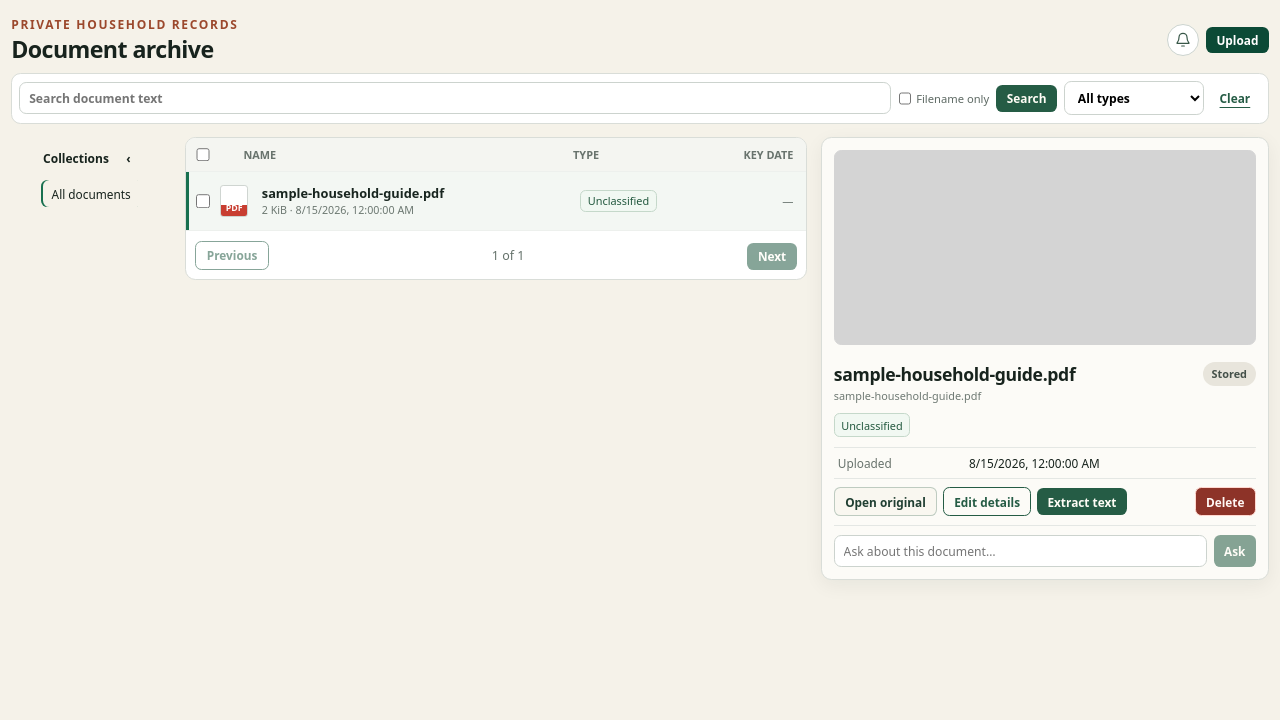
it: DocumentWorkspace › searches document text and renders concise linked provenance
This screenshot has width=1280, height=720.
Expected: the button "sample-household-guide.pdf" is shown, [186,172,806,230]
Expected: the text "Synthetic policy details." is not shown
Type " policy " into the field named "Search documents" at (455, 98), box [19,82,891,114]
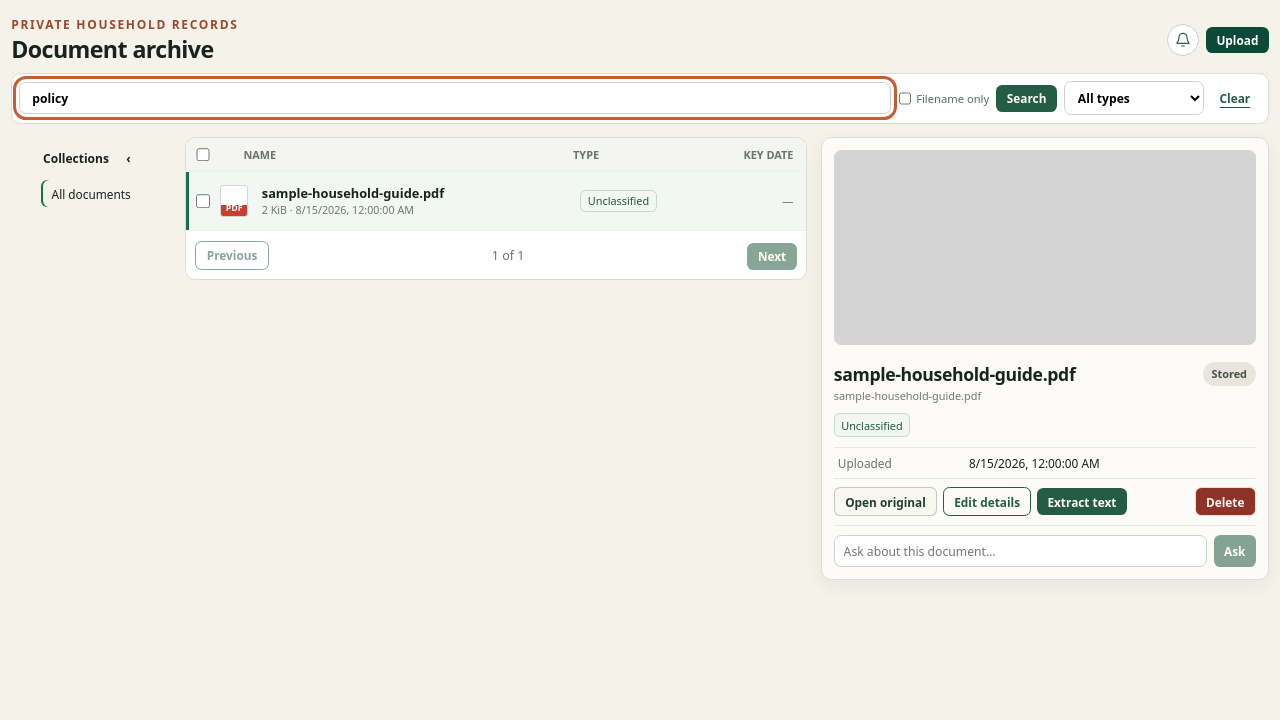
Click the button "Search" at (1027, 98), box [996,85,1057,112]
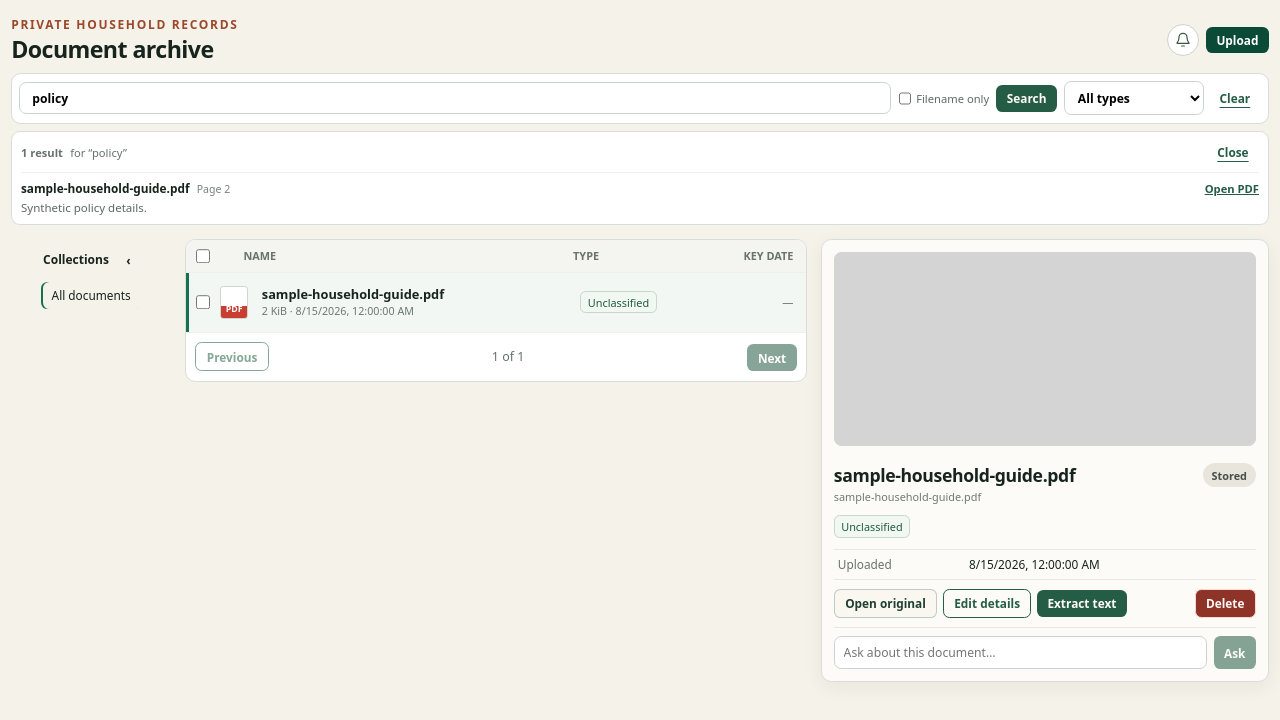
Result: the text "Synthetic policy details." is shown at [21,200,147,215]
Result: the text "Page 2" is shown at [197,182,230,196]
Result: the button "sample-household-guide.pdf" is shown at [21,180,190,196]
